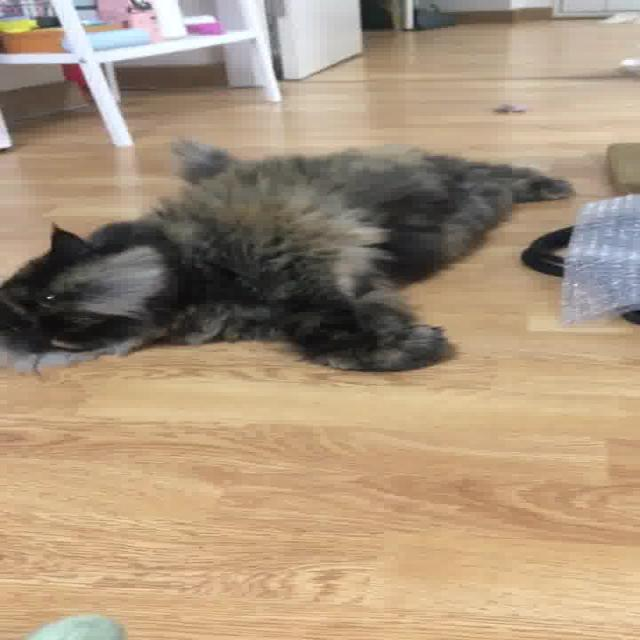cat: (6, 124, 581, 383)
